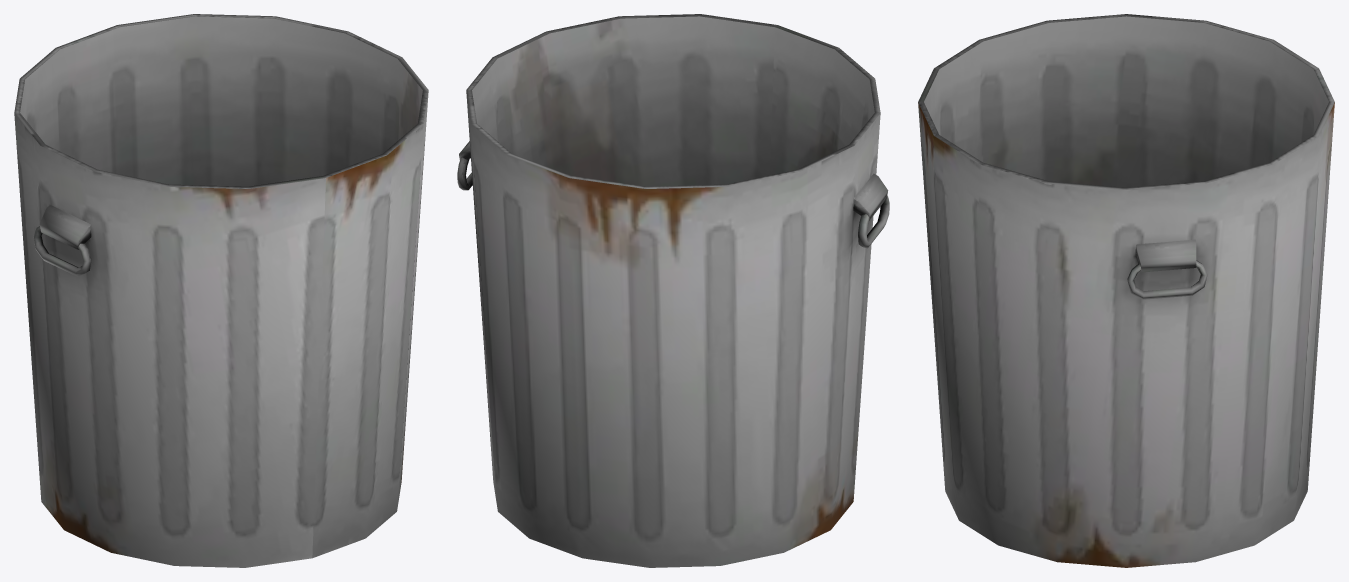
The picture shows the model from 3 angles, left to right: view 1: azimuth 30°, elevation 25°; view 2: azimuth 150°, elevation 25°; view 3: azimuth 270°, elevation 25°; orthographic projection.
Parts seen in each view (by area): view 1: body0_model0_lod0_mesh0; view 2: body0_model0_lod0_mesh0; view 3: body0_model0_lod0_mesh0.
Part boxes in pixels (x1,y1,x2,y2): body0_model0_lod0_mesh0: (14,14,428,567); body0_model0_lod0_mesh0: (457,14,889,567); body0_model0_lod0_mesh0: (918,14,1334,567).
Bounding box in the file's own units: 35.34 × 34.7 × 33.68.
1 material, 1 textured.
